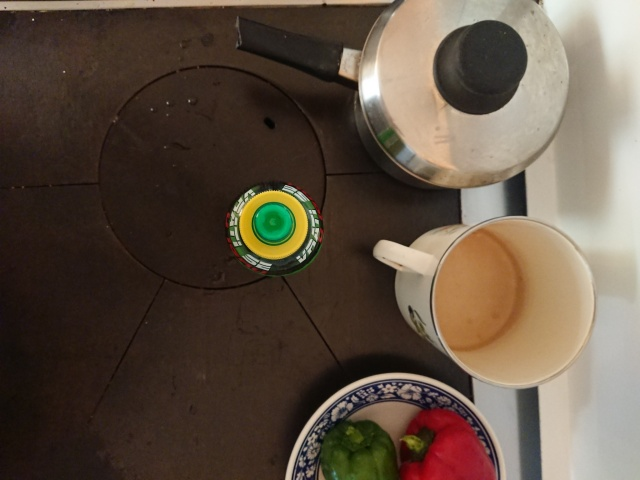Vindi Iso Sport Lemon-Grapefruit 500mL: (221, 178, 328, 281)
